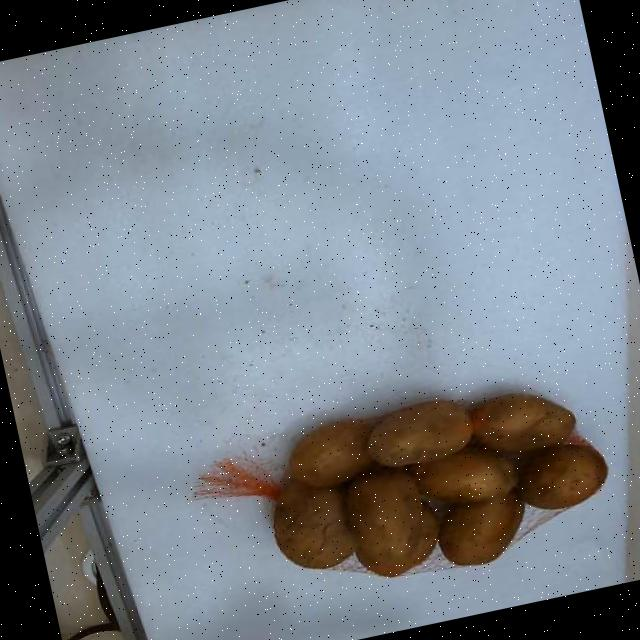potato: (344, 469, 435, 576), (273, 481, 356, 568), (366, 400, 472, 467), (438, 491, 522, 565), (473, 394, 575, 453), (516, 444, 607, 507), (290, 419, 372, 487), (414, 448, 515, 503)
